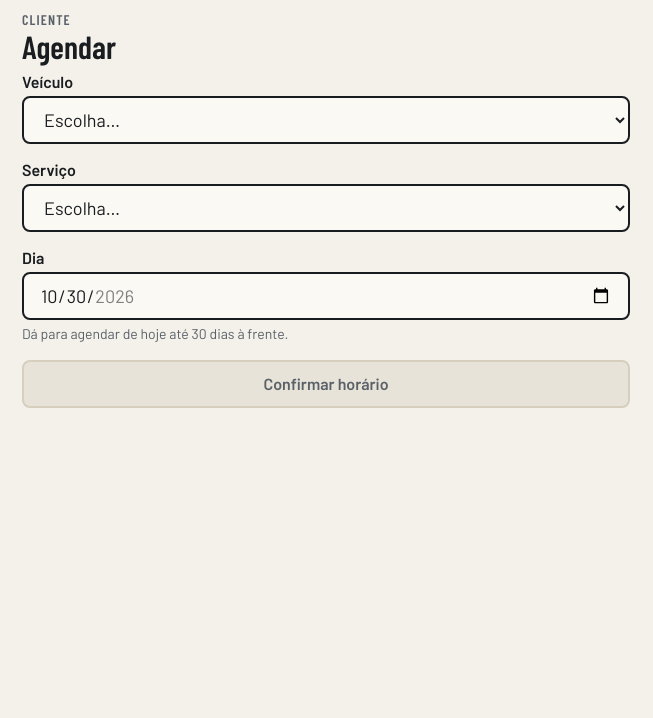
Test: Agendar (cliente) › se o horário foi ocupado (409), mostra o erro e recarrega a grade
This screenshot has width=653, height=718.
Step 1. Select "ABC1D23 · Chevrolet Onix" in the dropdown labelled "Veículo" → (326, 120), box 22,96 -> 630,144
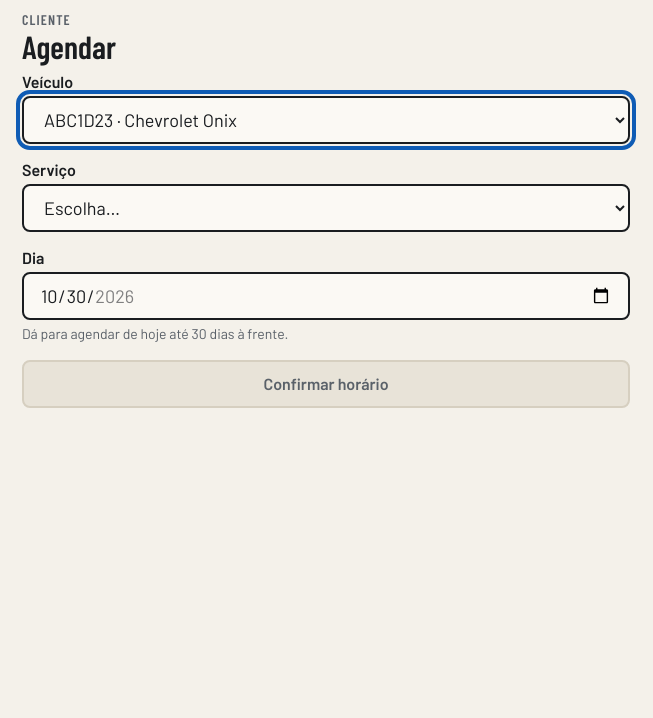
Step 2. Select "Lavagem completa" in the dropdown labelled "Serviço" → (326, 208), box 22,184 -> 630,232
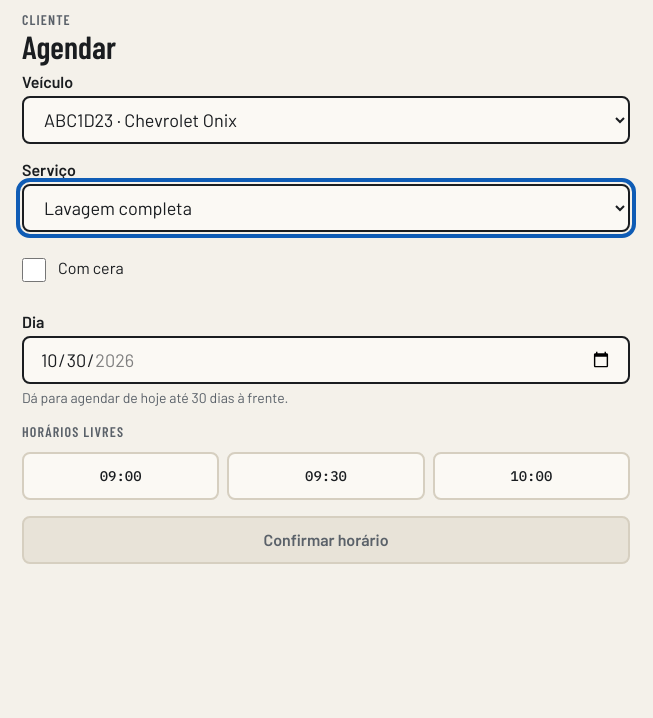
Step 3. Click the button "10:00" → click(531, 476), box 433,452 -> 630,500
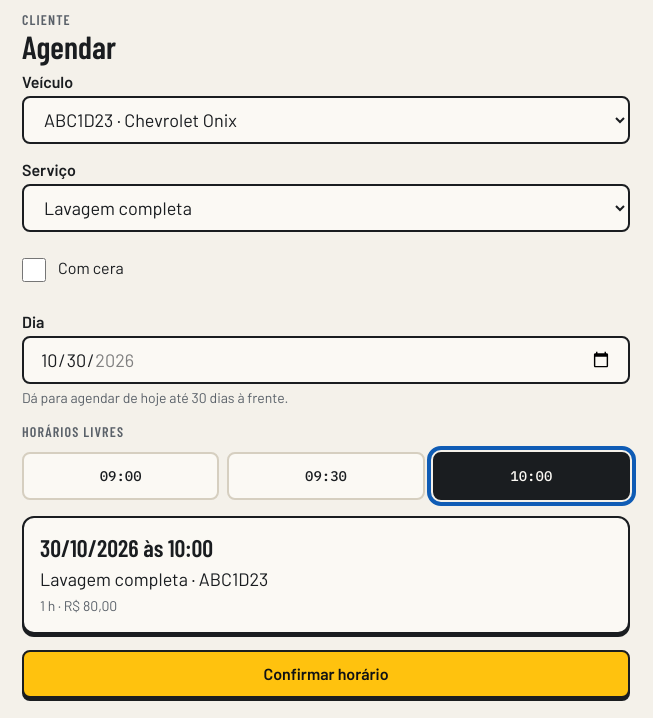
Step 4. Click the button "Confirmar horário" → click(326, 674), box 22,650 -> 630,698
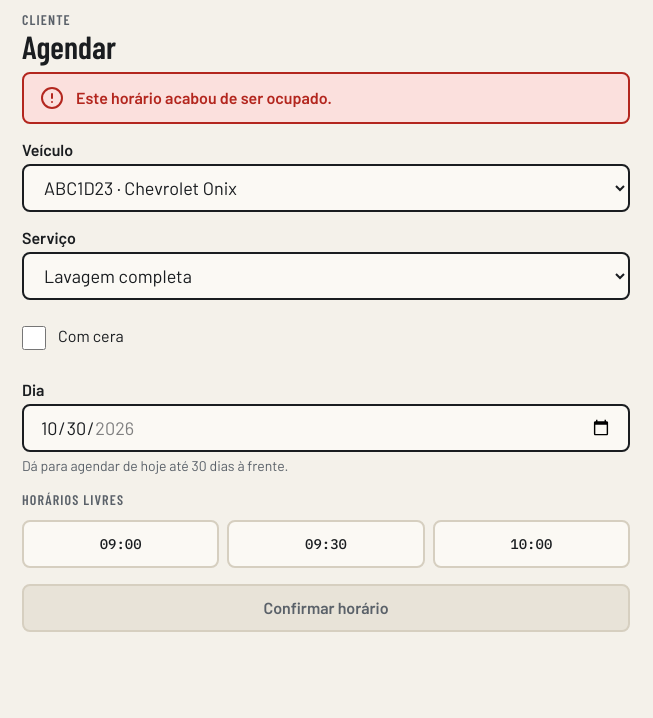
Expected: the text "Este horário acabou de ser ocupado." is shown, 76,88 -> 332,107
Expected: the button "Confirmar horário" is disabled, 22,584 -> 630,632
